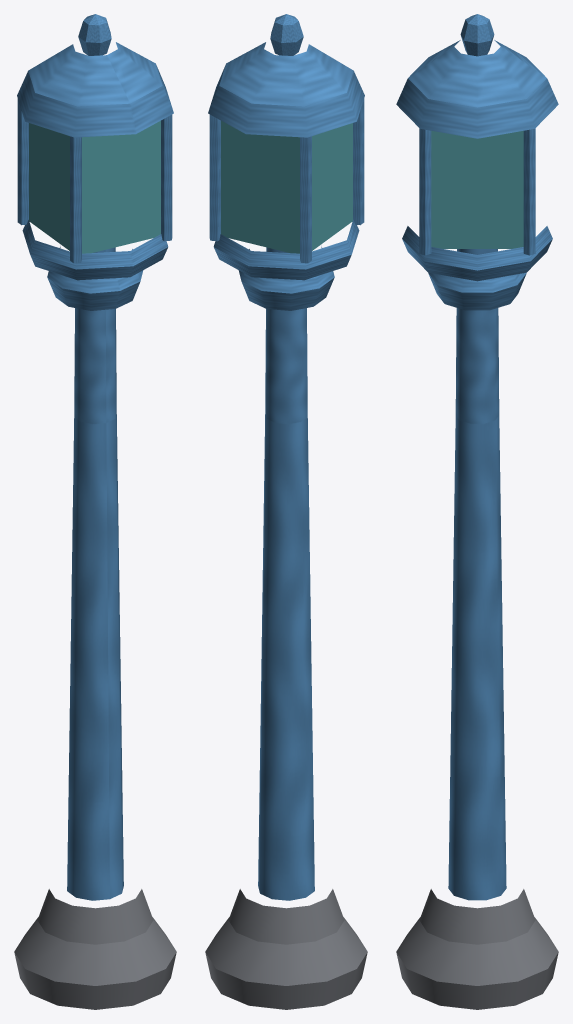
The model's file is greek-island-village-and-harbour-harbour-lamp-4a66e4ab__37105.glb.
3 renders of one model, left to right at view 1: azimuth 30°, elevation 25°; view 2: azimuth 150°, elevation 25°; view 3: azimuth 270°, elevation 25°, orthographic.
Visible parts, largest first — view 1: harbour-lamp; view 2: harbour-lamp; view 3: harbour-lamp.
Part boxes in pixels (x1=…): harbour-lamp: x1=14, y1=14, x2=176, y2=1009; harbour-lamp: x1=205, y1=14, x2=367, y2=1009; harbour-lamp: x1=396, y1=14, x2=558, y2=1009.
Size of the model in its own units: 0.56 by 3.66 by 0.56.
Materials: 3 (1 with a texture image).
